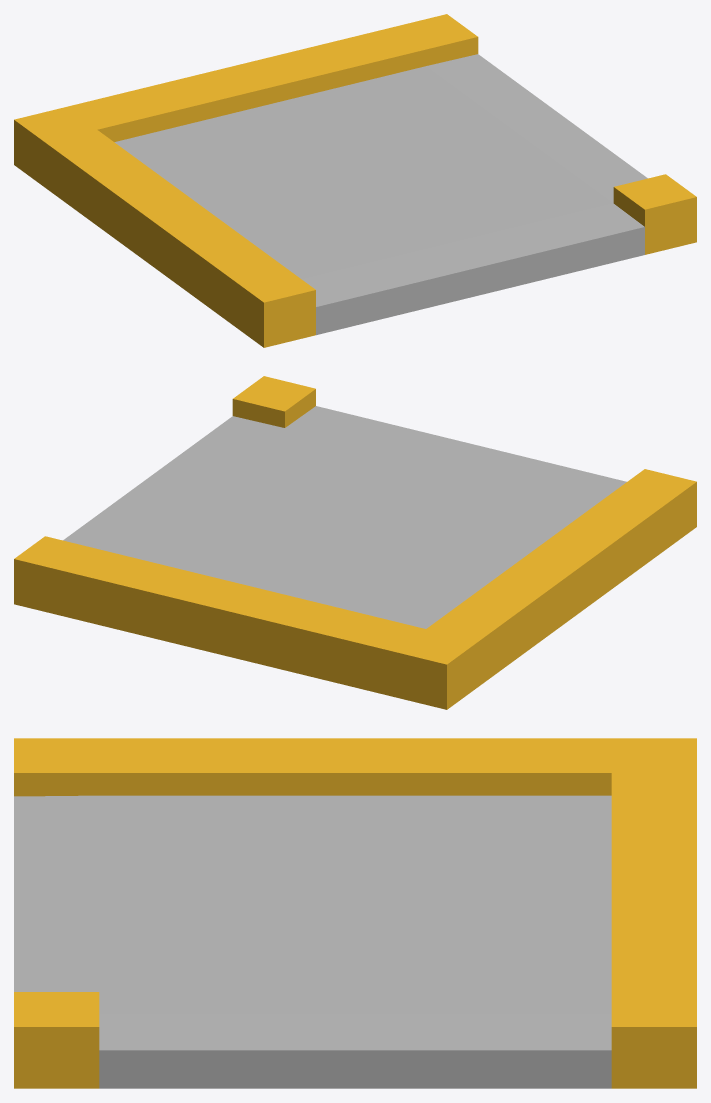
Rendered from Yellow_Corner(1).fbx.
The picture shows the model from 3 angles, top to bottom: view 1: azimuth 30°, elevation 25°; view 2: azimuth 150°, elevation 25°; view 3: azimuth 270°, elevation 25°; orthographic projection. The views are drawn at different scales.
Parts seen in each view (by area): view 1: yellow_Corner; view 2: yellow_Corner; view 3: yellow_Corner.
Boxes of the visible parts, x1,y1,x2,y2 form: yellow_Corner: (14,14,696,347); yellow_Corner: (14,376,696,709); yellow_Corner: (14,738,696,1088).
Size of the model in its own units: 1 by 0.1 by 1.
Materials: 1 (1 with a texture image).
